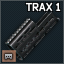AK Strike Industries TRAX 1 handguard: (0, 0, 64, 64)
